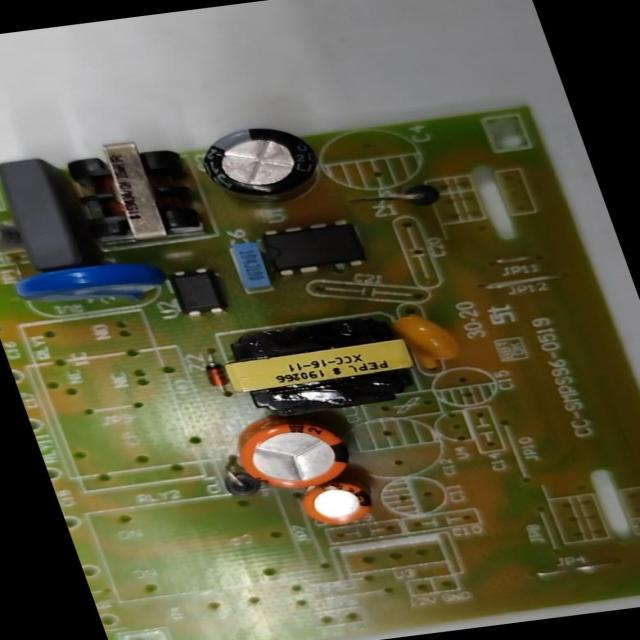Cap1: (230, 413, 354, 493)
Cap2: (295, 480, 375, 526)
Cap3: (192, 121, 322, 209)
MOSFET: (254, 218, 367, 277)
Mov: (11, 256, 163, 313)
Resistor: (0, 214, 24, 255)
Transformer: (214, 312, 427, 419), (56, 133, 212, 250)
